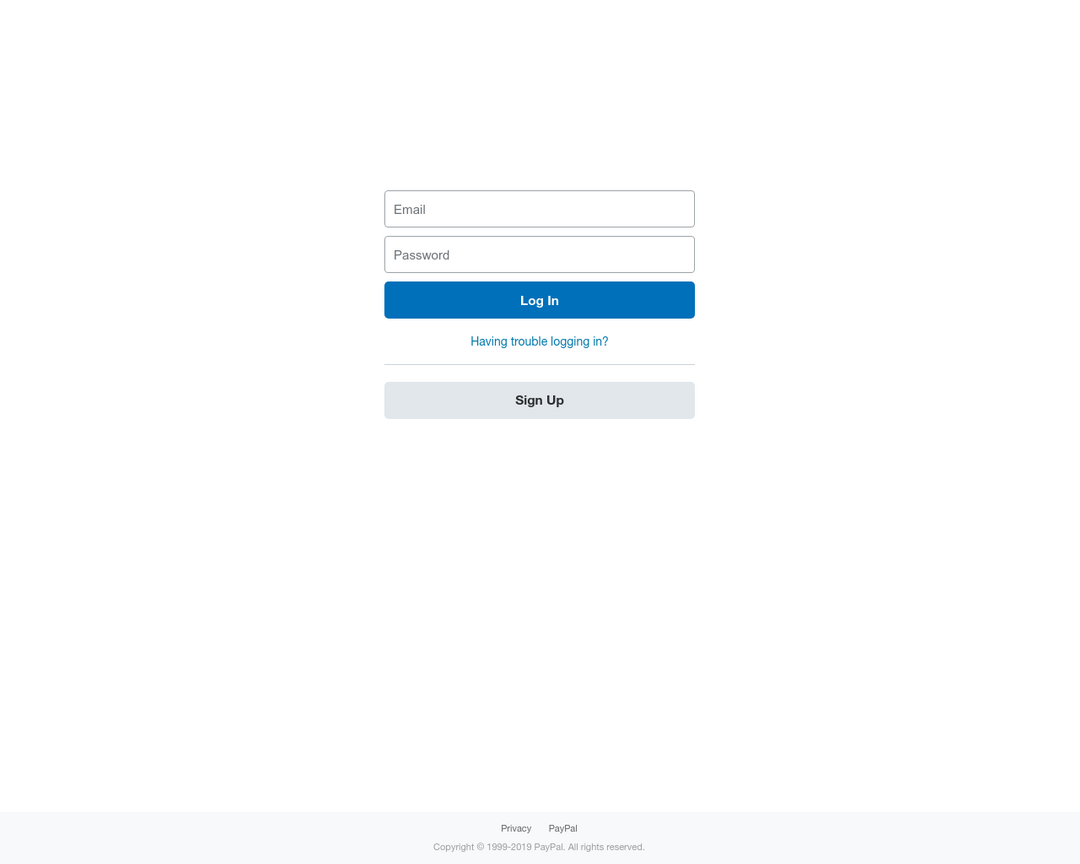Paypal: (68, 10, 184, 54)
